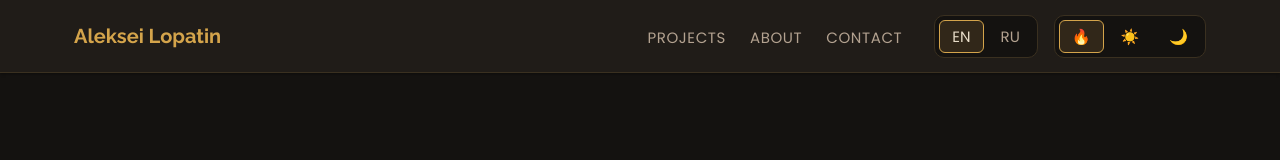
language switching › switches the interface and the html lang attribute
Expected: the link "Projects" is shown, [647,26,726,48]
Click the button with aria-label "Русский": point(1010, 36) [988,20,1033,52]
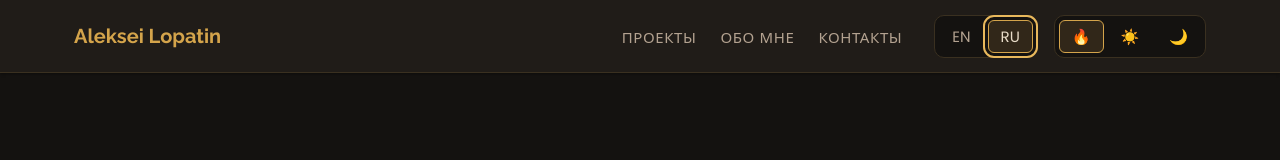
Result: the link "Проекты" is shown at [622,26,696,48]
